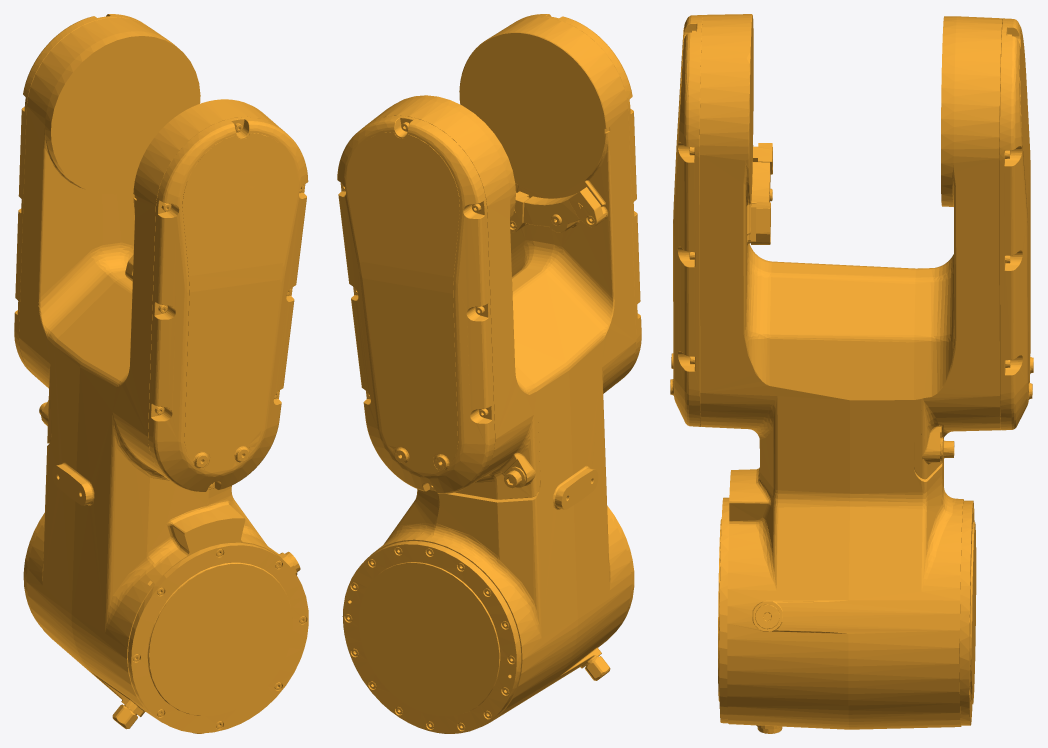
The model's file is ABBIRB1300Link2.dae.
The picture shows the model from 3 angles, left to right: view 1: azimuth 30°, elevation 25°; view 2: azimuth 150°, elevation 25°; view 3: azimuth 270°, elevation 25°; orthographic projection. The views are drawn at different scales.
Parts seen in each view (by area): view 1: node_dbc1be97_f372_4eef_81cf_3901ae116557_mesh0; view 2: node_dbc1be97_f372_4eef_81cf_3901ae116557_mesh0; view 3: node_dbc1be97_f372_4eef_81cf_3901ae116557_mesh0.
Boxes of the visible parts, bbox=[...] form: node_dbc1be97_f372_4eef_81cf_3901ae116557_mesh0: bbox=[14, 14, 308, 733]; node_dbc1be97_f372_4eef_81cf_3901ae116557_mesh0: bbox=[337, 14, 641, 733]; node_dbc1be97_f372_4eef_81cf_3901ae116557_mesh0: bbox=[670, 14, 1033, 733].
Size of the model in its own units: 0.1879 by 0.2791 by 0.5982.
